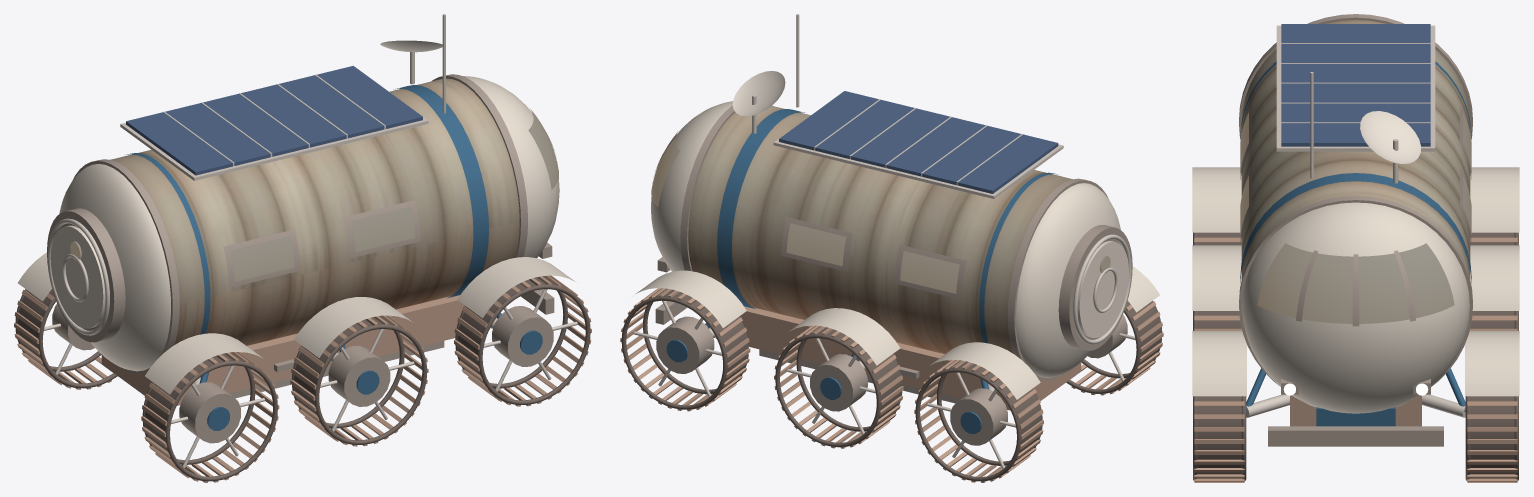
Rendered from V02_pressurized_rover_white_blue.glb.
3 views of the same model, side by side, from view 1: azimuth 30°, elevation 25°; view 2: azimuth 150°, elevation 25°; view 3: azimuth 270°, elevation 25° (orthographic). The views are drawn at different scales.
Parts seen in each view (by area): view 1: cabin, nose, chassis, windshield_post, dock_seal, windshield; view 2: cabin, nose, chassis, windshield_post, dock_seal, windshield, dish; view 3: nose, chassis, cabin, windshield, windshield_post, dock_seal, dish.
Part boxes in pixels (<box>): cabin: <box>110,78,519,345</box>; nose: <box>15,76,590,481</box>; chassis: <box>14,65,591,482</box>; windshield_post: <box>47,74,555,443</box>; dock_seal: <box>44,14,577,467</box>; windshield: <box>70,109,558,281</box>; cabin: <box>688,106,1072,353</box>; nose: <box>621,101,1162,481</box>; chassis: <box>620,91,1163,482</box>; windshield_post: <box>655,105,1132,445</box>; dock_seal: <box>633,14,1135,468</box>; windshield: <box>651,131,1110,293</box>; dish: <box>732,71,785,116</box>; nose: <box>1192,61,1519,480</box>; chassis: <box>1194,24,1517,482</box>; cabin: <box>1241,20,1470,279</box>; windshield: <box>1240,112,1471,323</box>; windshield_post: <box>1239,14,1472,446</box>; dock_seal: <box>1246,25,1465,417</box>; dish: <box>1360,111,1420,163</box>.
Size of the model in its own units: 6.59 by 4.83 by 3.72.
Materials: 8 (1 with a texture image).
